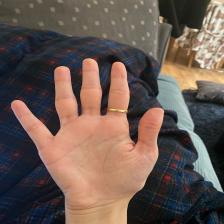five: (10, 56, 166, 209)
